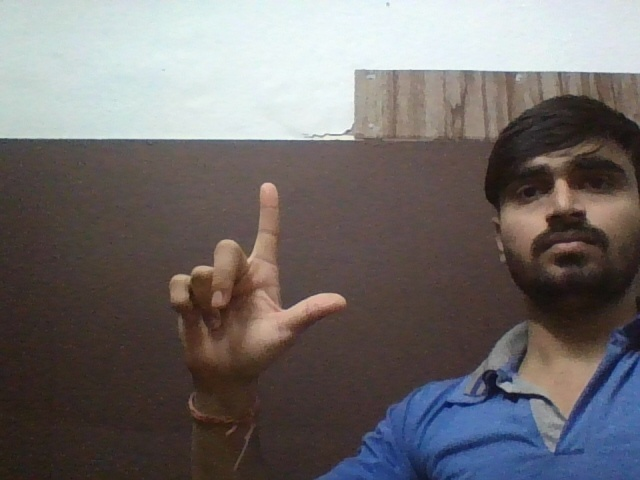L: (153, 177, 346, 382)
